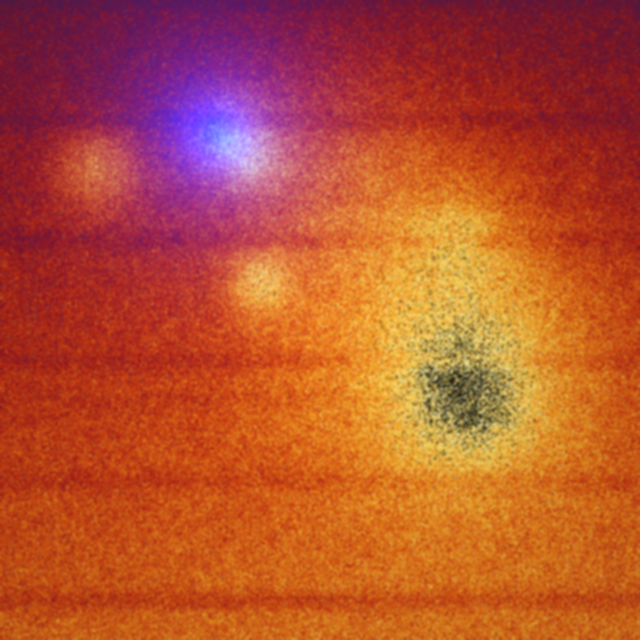nozzle: (162, 83, 272, 174)
